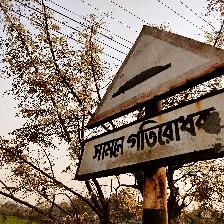Speed-breaker: (78, 25, 224, 181)
